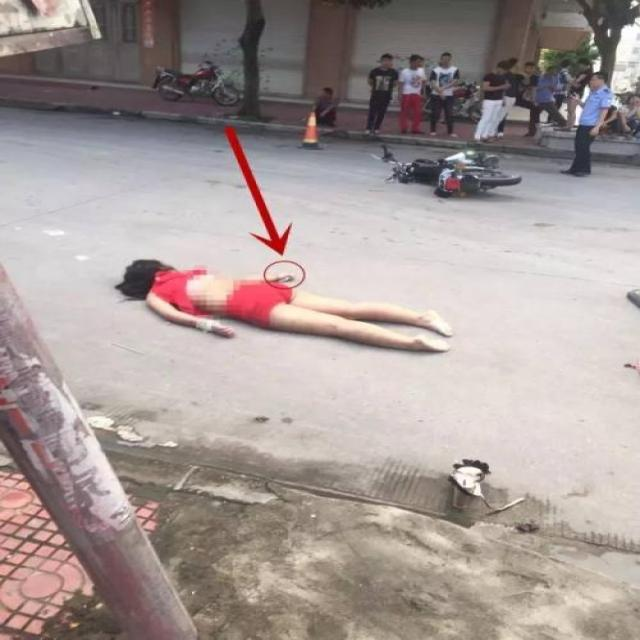10-: (106, 46, 639, 360)
down: (109, 251, 459, 360)
